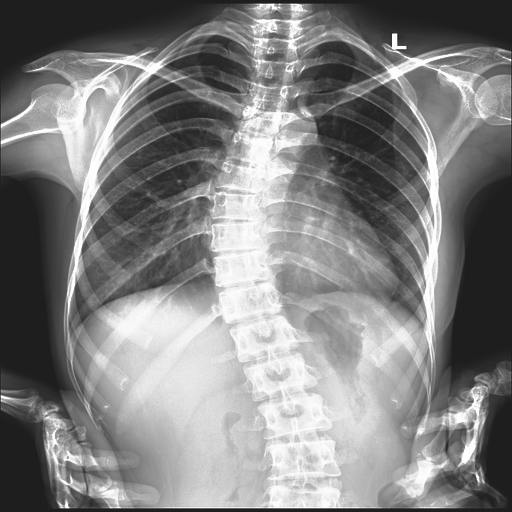Nodule/Mass: (203, 214, 399, 303)
Other lesion: (207, 193, 334, 420)
